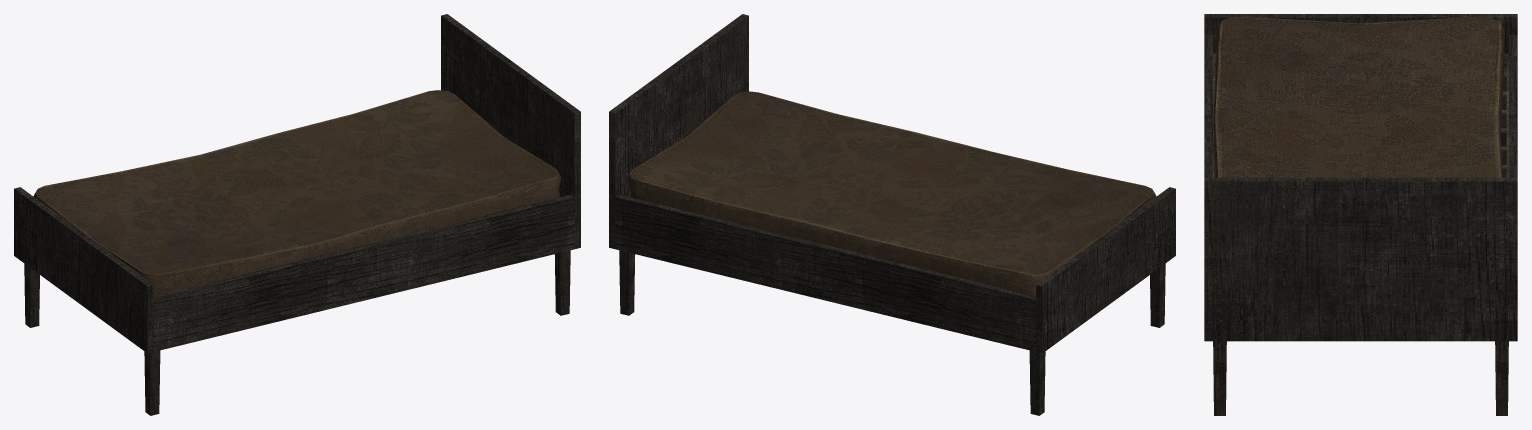
File: bed_3.glb
3 views of the same model, side by side, from view 1: azimuth 30°, elevation 25°; view 2: azimuth 150°, elevation 25°; view 3: azimuth 270°, elevation 25° (orthographic). The views are drawn at different scales.
Visible parts, largest first — view 1: bed_3; view 2: bed_3; view 3: bed_3.
Boxes of the visible parts, x1,y1,x2,y2 form: bed_3: [14, 14, 580, 415]; bed_3: [609, 14, 1175, 415]; bed_3: [1204, 14, 1517, 415].
Size of the model in its own units: 2.7 by 1.21 by 1.44.
3 materials, 3 textured.
